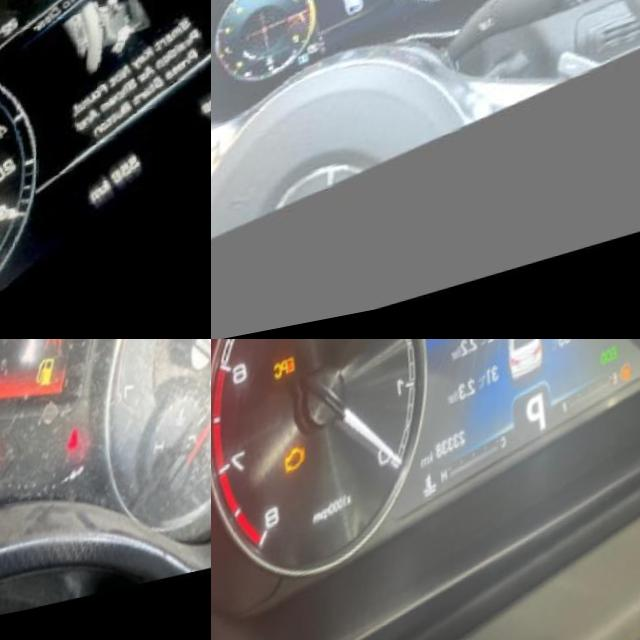Engine cooling system: (281, 67, 294, 81)
Low fuel level: (42, 366, 68, 406), (0, 222, 17, 262)
